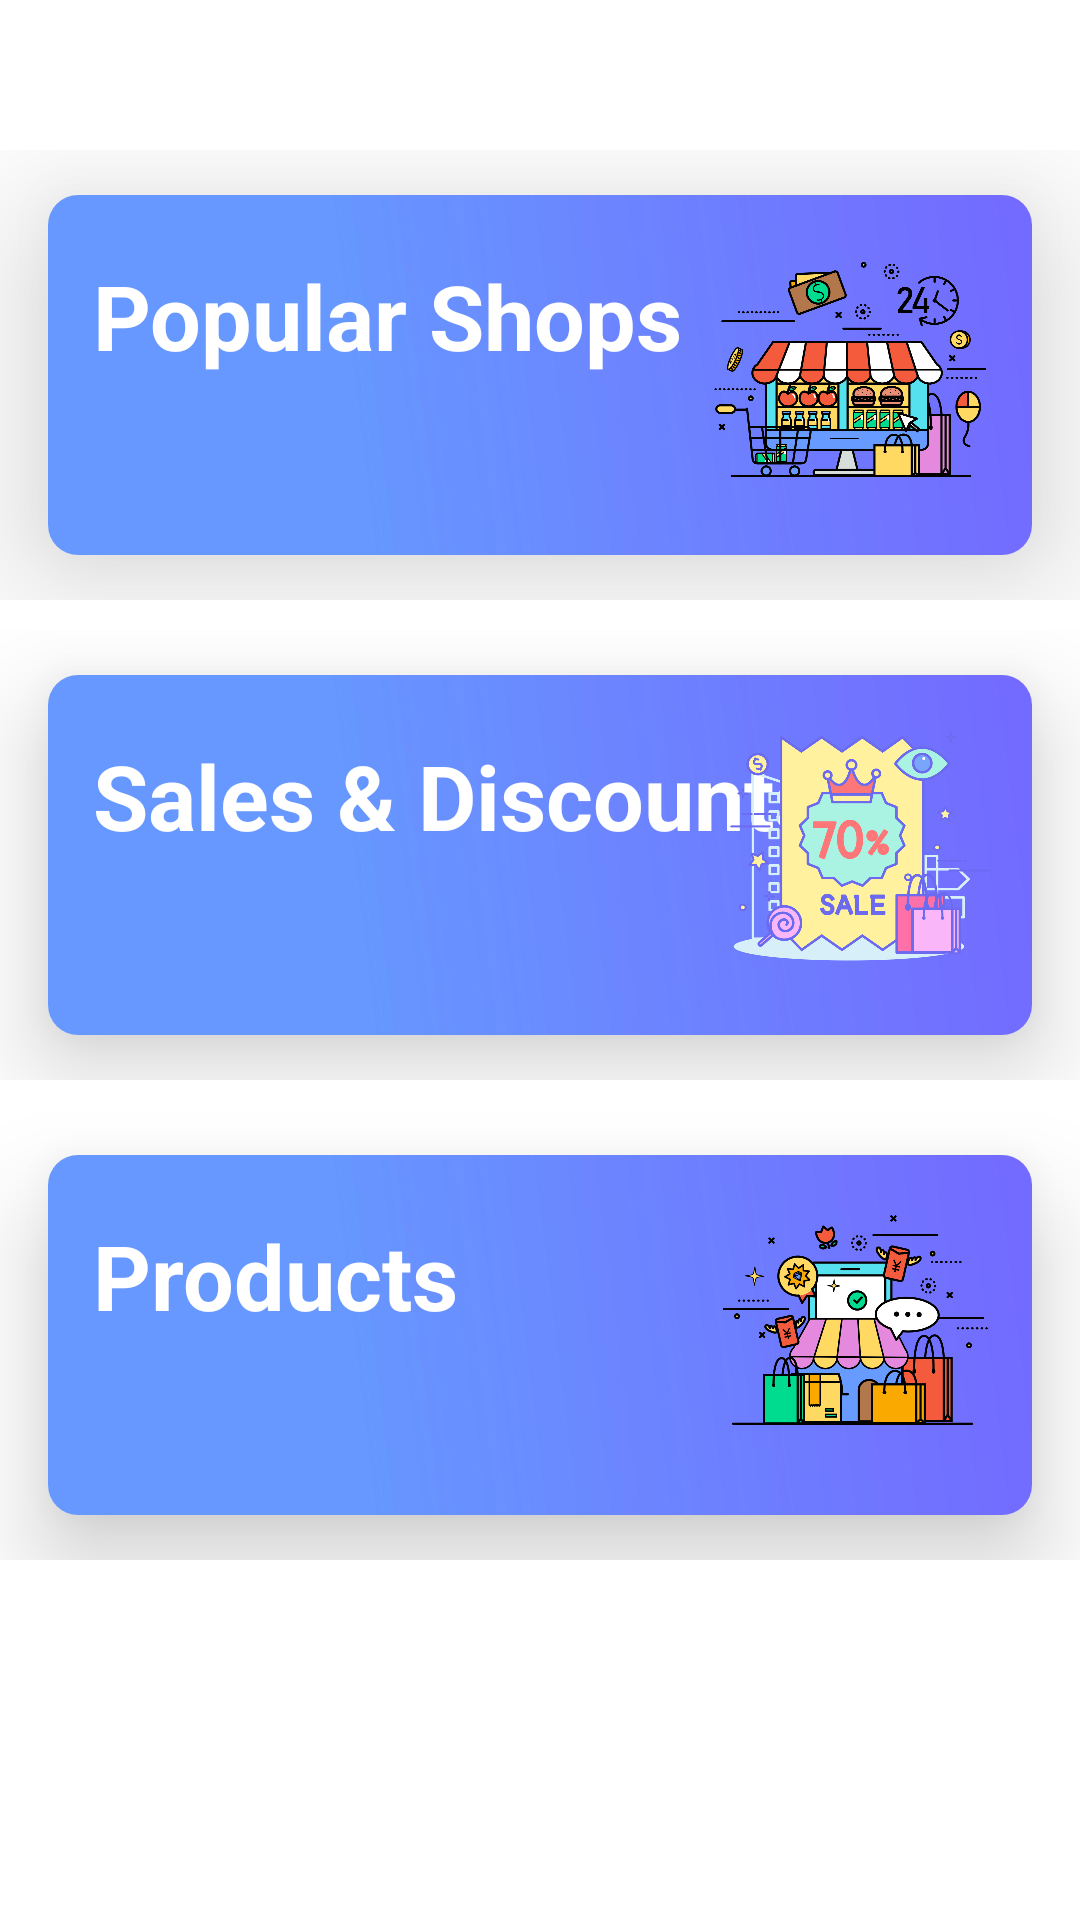

Named icons in this screenshot (1080 × 1920) and their bounding boxes, (x1, y1, x2, y2):
product: (723, 1215, 988, 1425)
